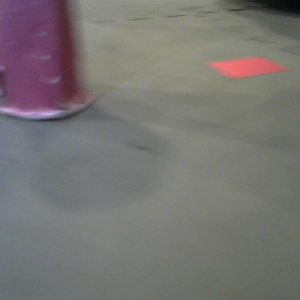right: (1, 1, 101, 129)
